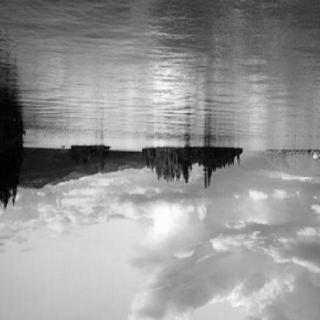other: (144, 202, 188, 230)
